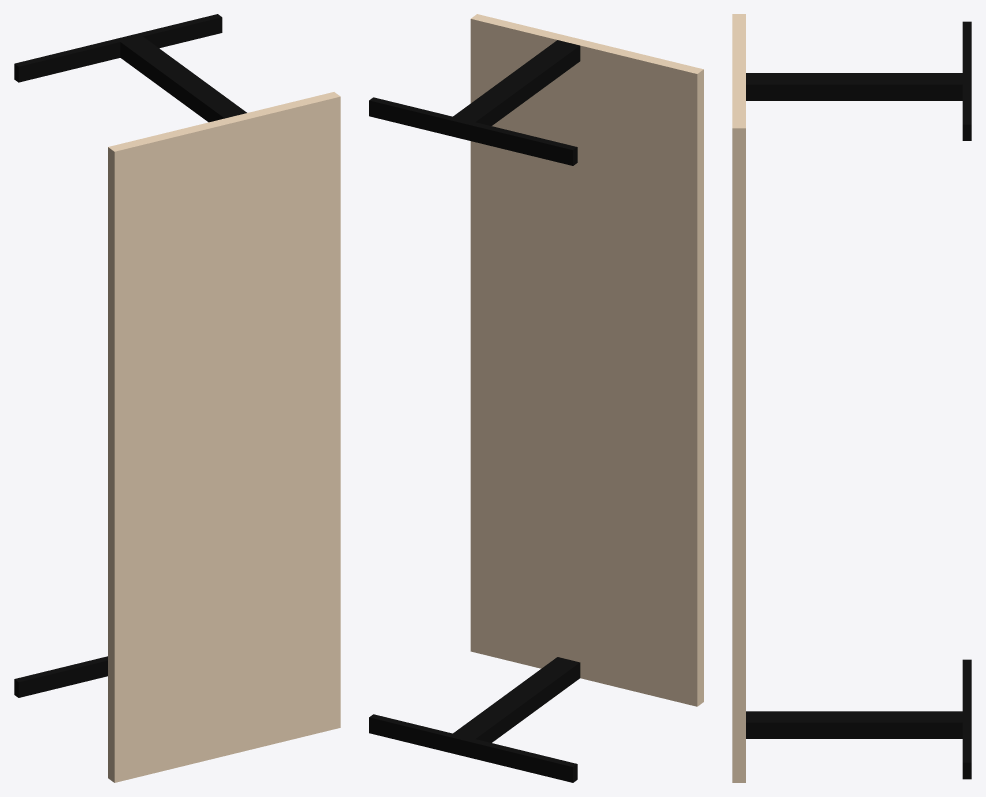
File: table.obj
The picture shows the model from 3 angles, left to right: view 1: azimuth 30°, elevation 25°; view 2: azimuth 150°, elevation 25°; view 3: azimuth 270°, elevation 25°; orthographic projection. The views are drawn at different scales.
Parts seen in each view (by area): view 1: tabletop, leg_left, leg_right; view 2: tabletop, leg_right, leg_left; view 3: tabletop, leg_right, leg_left.
Part boxes in pixels (x1,y1,x2,y2): tabletop: (108, 92, 340, 782); leg_left: (14, 14, 246, 122); leg_right: (14, 656, 107, 697); tabletop: (470, 14, 703, 706); leg_right: (369, 657, 580, 782); leg_left: (369, 40, 580, 165); tabletop: (732, 14, 745, 782); leg_right: (746, 659, 971, 779); leg_left: (746, 21, 971, 140).
Size of the model in its own units: 0.762 by 2.03 by 0.6731.
